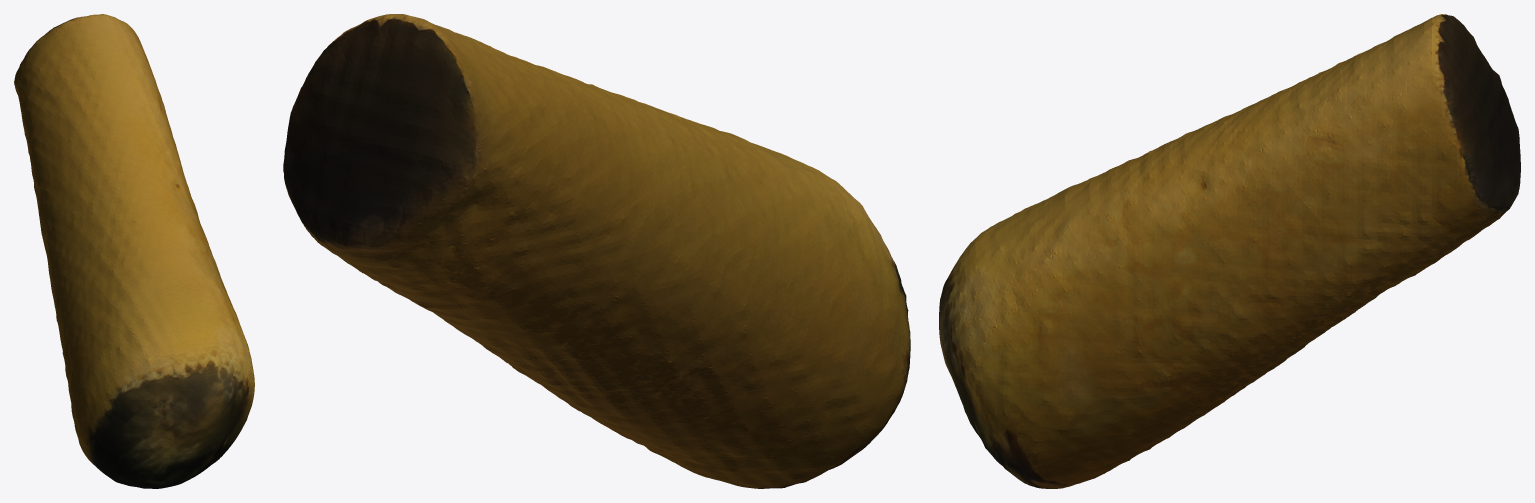
The model's file is 2_rgba.obj.
3 views of the same model, side by side, from view 1: azimuth 30°, elevation 25°; view 2: azimuth 150°, elevation 25°; view 3: azimuth 270°, elevation 25° (orthographic). The views are drawn at different scales.
Size of the model in its own units: 1.11 by 1.82 by 1.91.
1 material, 1 textured.
